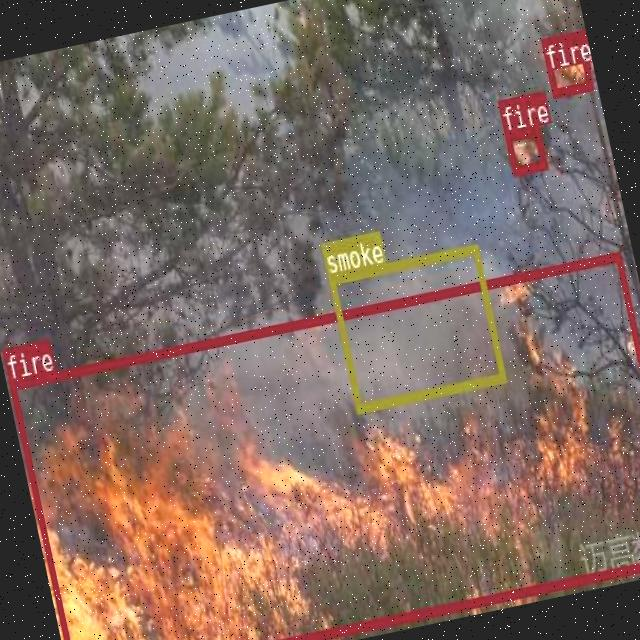fire: (7, 249, 640, 640), (539, 30, 592, 96), (504, 125, 546, 173)
smoke: (326, 242, 505, 412)
